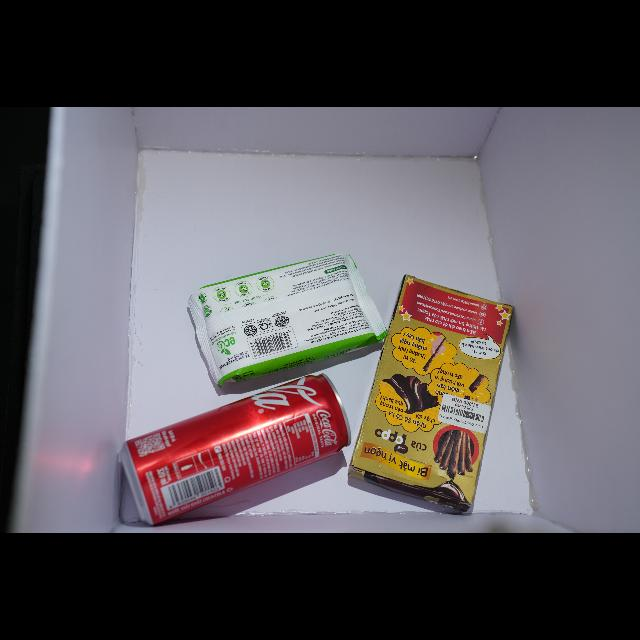banh_toppo_socola: (349, 276, 513, 512)
coca_cola: (120, 374, 349, 525)
khan_giay: (189, 254, 387, 386)
